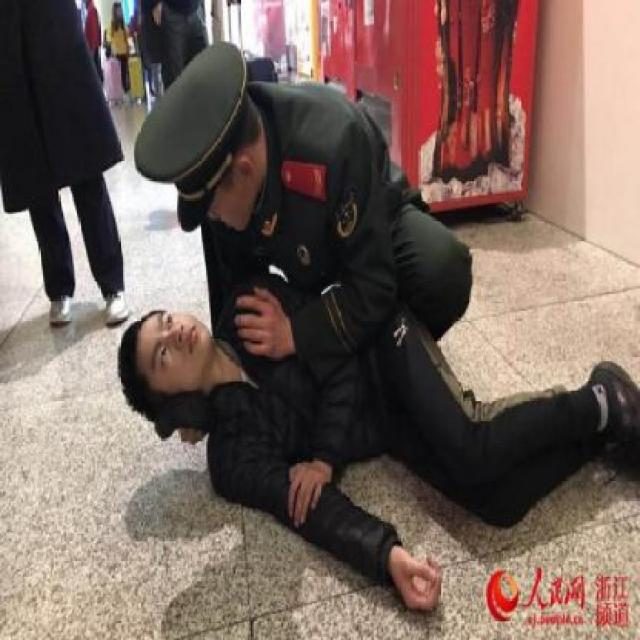fall: (107, 270, 639, 625)
